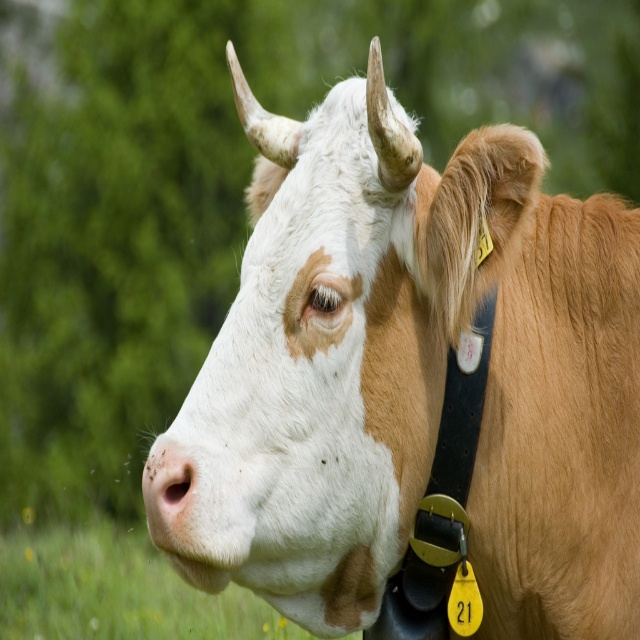Cattle: (136, 36, 640, 640)
